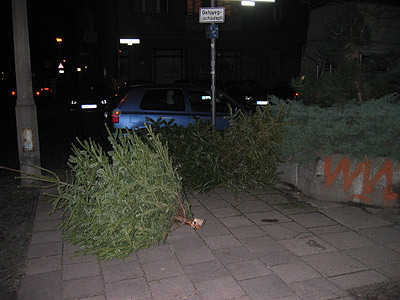car: (111, 90, 251, 161)
tree: (15, 138, 192, 244)
